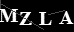A: (57, 9, 74, 25)
L: (37, 11, 53, 26)
M: (1, 8, 18, 23)
Z: (18, 11, 33, 26)
